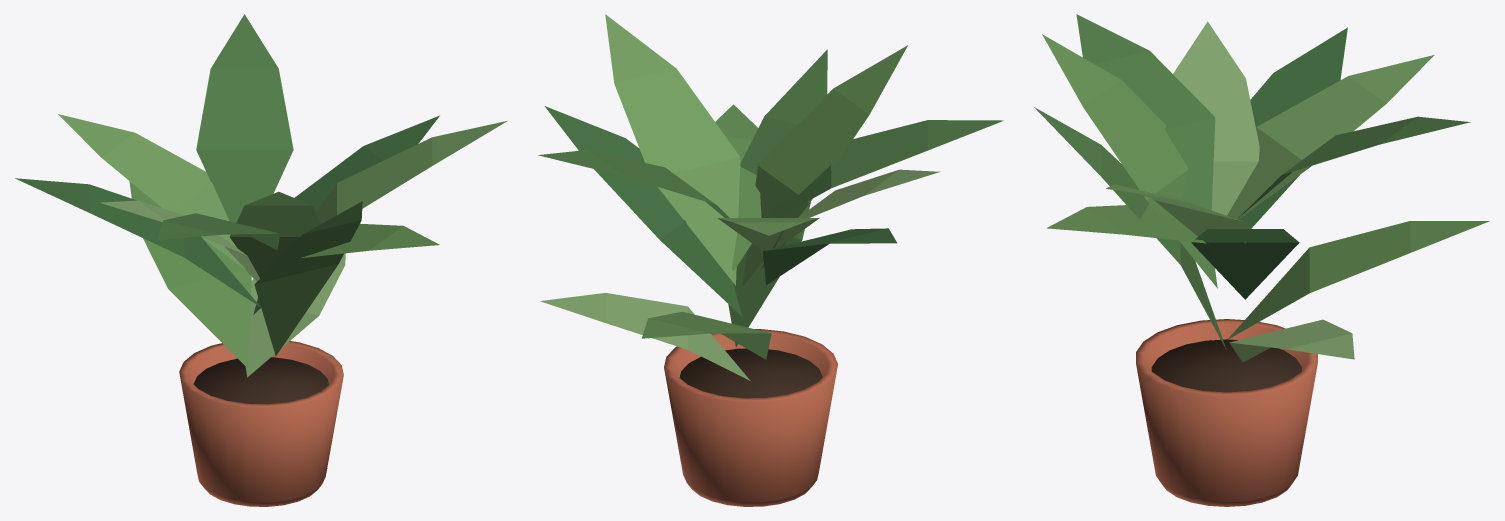
The model's file is i_plant_10.glb.
3 renders of one model, left to right at view 1: azimuth 30°, elevation 25°; view 2: azimuth 150°, elevation 25°; view 3: azimuth 270°, elevation 25°, orthographic. The views are drawn at different scales.
Visible parts, largest first — view 1: o, o.007, o.009, o.002, o.008, o.004, o.010, o.001, o.013, o.005, o.006, o.012 (+2 smaller); view 2: o, o.004, o.013, o.005, o.012, o.002, o.001, o.006, o.007, o.008, o.003, o.010 (+2 smaller); view 3: o, o.009, o.013, o.012, o.011, o.008, o.001, o.010, o.005, o.002, o.003, o.007 (+2 smaller).
Boxes of the visible parts, box(x1,y1,x2,y2) form: o: box(179, 341, 343, 506); o.007: box(196, 14, 293, 222); o.009: box(58, 114, 245, 269); o.002: box(254, 201, 362, 356); o.008: box(129, 181, 251, 367); o.004: box(316, 121, 507, 223); o.010: box(15, 178, 260, 307); o.001: box(193, 357, 328, 404); o.013: box(229, 191, 320, 278); o.005: box(253, 115, 439, 314); o.006: box(245, 253, 345, 377); o.012: box(157, 213, 280, 249); o: box(664, 329, 837, 506); o.004: box(605, 14, 740, 285); o.013: box(742, 45, 907, 286); o.005: box(544, 106, 741, 316); o.012: box(764, 120, 1003, 217); o.002: box(728, 49, 827, 347); o.001: box(679, 348, 822, 398); o.006: box(540, 293, 750, 380); o.007: box(538, 150, 755, 243); o.008: box(641, 311, 771, 359); o.003: box(715, 104, 761, 271); o.010: box(762, 228, 896, 285); o: box(1136, 319, 1317, 506); o.009: box(1227, 55, 1434, 219); o.013: box(1042, 34, 1217, 288); o.012: box(1076, 14, 1215, 210); o.011: box(1173, 21, 1259, 215); o.008: box(1227, 221, 1489, 339); o.001: box(1151, 339, 1301, 392); o.010: box(1215, 27, 1347, 268); o.005: box(1191, 229, 1299, 299); o.002: box(1034, 107, 1226, 349); o.003: box(1046, 204, 1206, 243); o.007: box(1237, 116, 1470, 218).
Size of the model in its own units: 0.5934 by 0.5405 by 0.5472.
